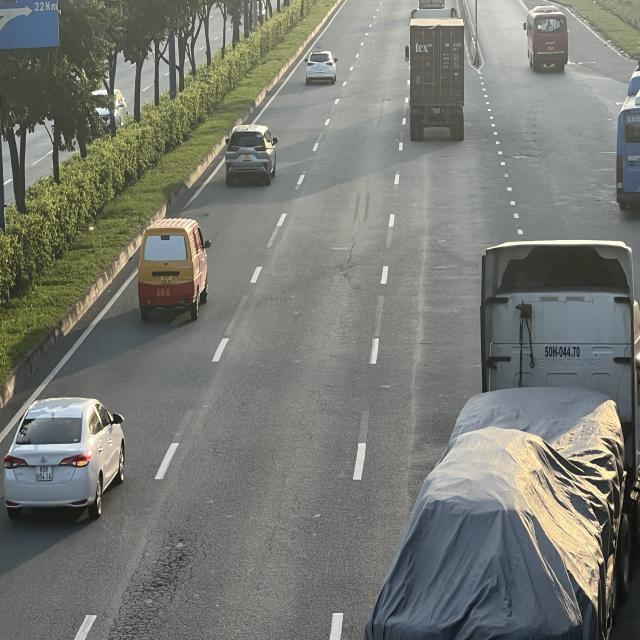car: (3, 393, 127, 519), (225, 122, 281, 183), (306, 51, 338, 85)
coach: (526, 5, 570, 70)
container: (363, 231, 640, 637), (408, 13, 467, 141)
van: (137, 219, 210, 320)
